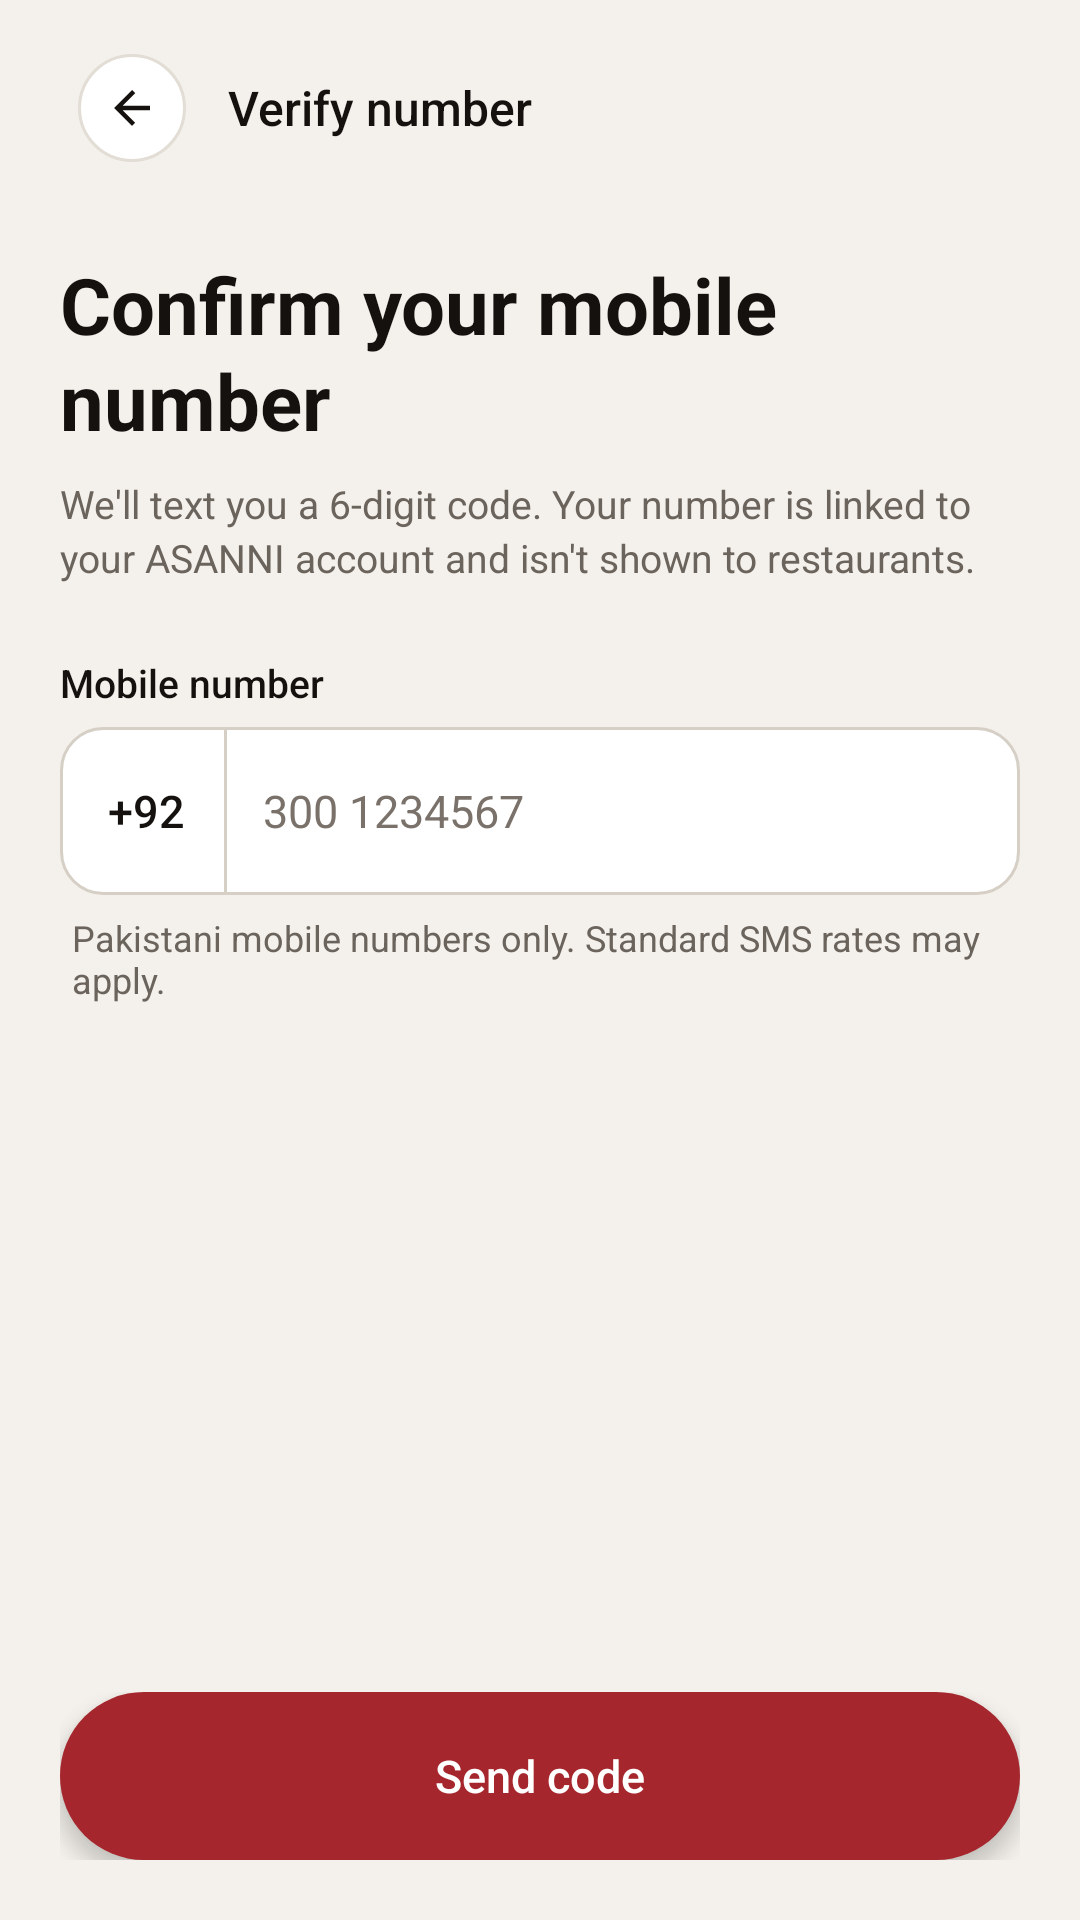

Icons on this 1080×1920 Android screen, each with its box as (x1=x1, y1=y1, x2=x2, y2=y2):
arrow back: (x1=78, y1=54, x2=186, y2=162)
